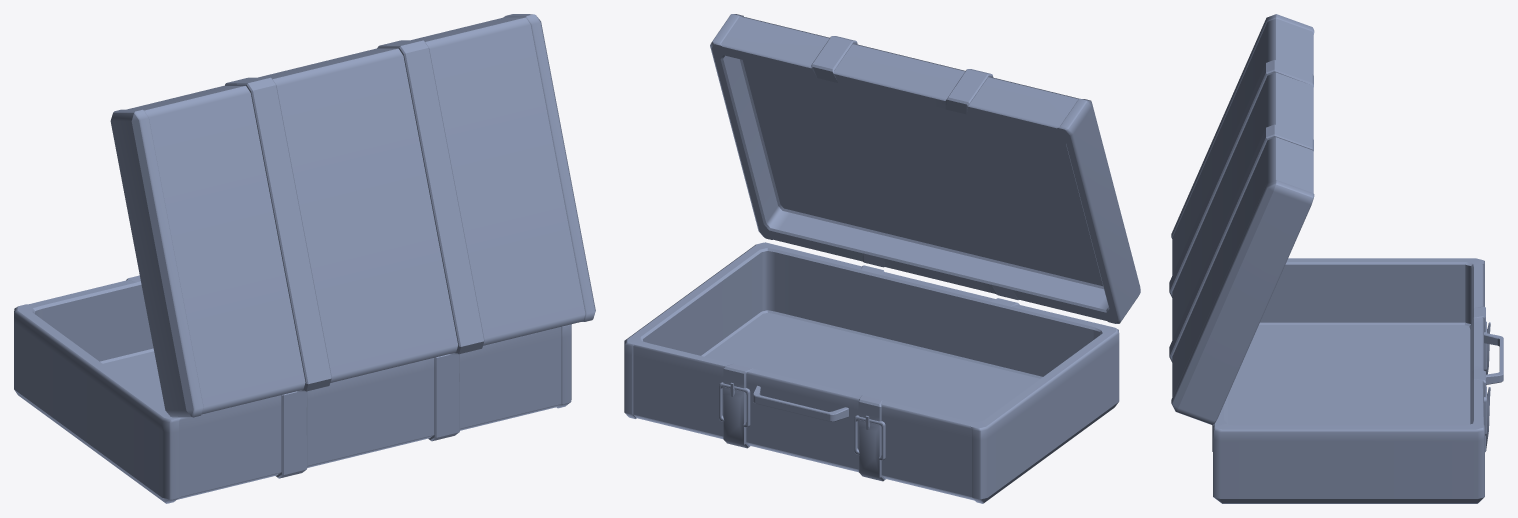
Rendered from luggage04Open 1.fbx.
3 renders of one model, left to right at view 1: azimuth 30°, elevation 25°; view 2: azimuth 150°, elevation 25°; view 3: azimuth 270°, elevation 25°, orthographic. The views are drawn at different scales.
Parts seen in each view (by area): view 1: Luggage01Open; view 2: Luggage01Open; view 3: Luggage01Open.
Boxes of the visible parts, x1,y1,x2,y2 form: Luggage01Open: (14,14,595,503); Luggage01Open: (624,14,1140,503); Luggage01Open: (1169,14,1503,503).
Bounding box in the file's own units: 59.46 × 51.7 × 48.42.
